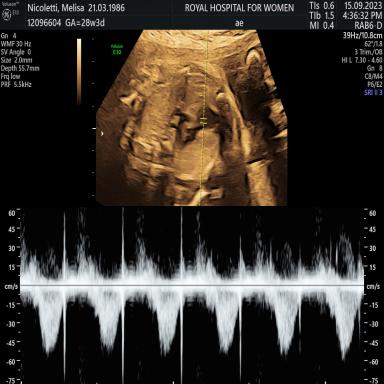Ultrasound-Waves: (25, 207, 360, 384)
